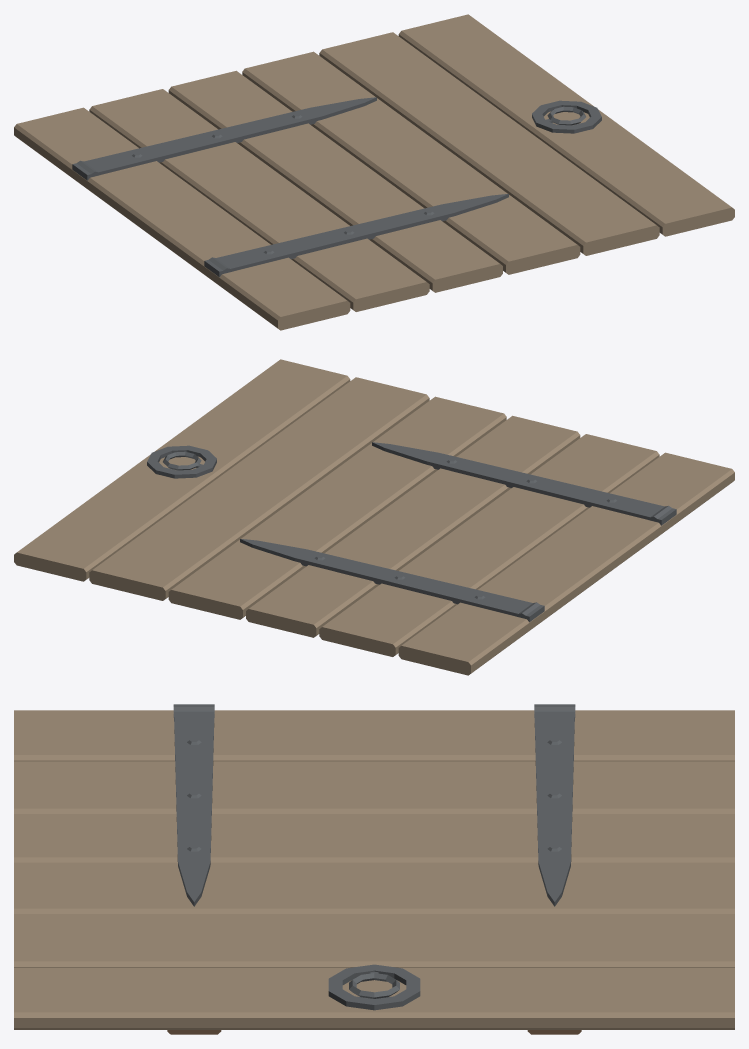
Rendered from trapdoor_leaf.glb.
3 views of the same model, one above another, from view 1: azimuth 30°, elevation 25°; view 2: azimuth 150°, elevation 25°; view 3: azimuth 270°, elevation 25° (orthographic). The views are drawn at different scales.
Parts seen in each view (by area): view 1: trapdoor_leaf; view 2: trapdoor_leaf; view 3: trapdoor_leaf.
Part boxes in pixels (bbox=[...]): trapdoor_leaf: bbox=[14, 14, 734, 330]; trapdoor_leaf: bbox=[14, 359, 734, 675]; trapdoor_leaf: bbox=[14, 704, 734, 1034].
Bounding box in the file's own units: 1.2 × 0.07 × 1.2.
